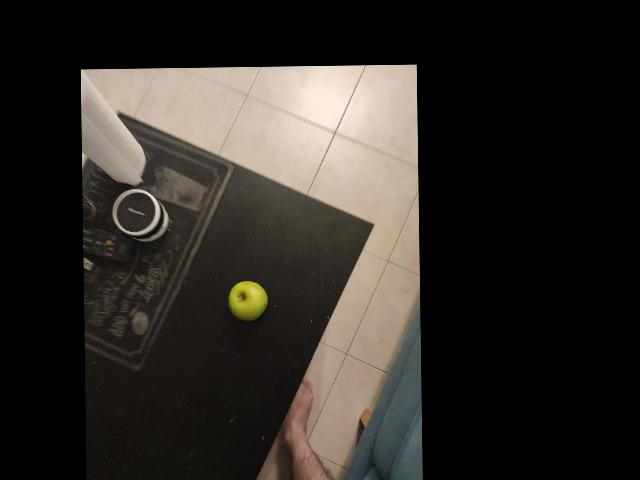apple: (291, 212, 337, 258)
